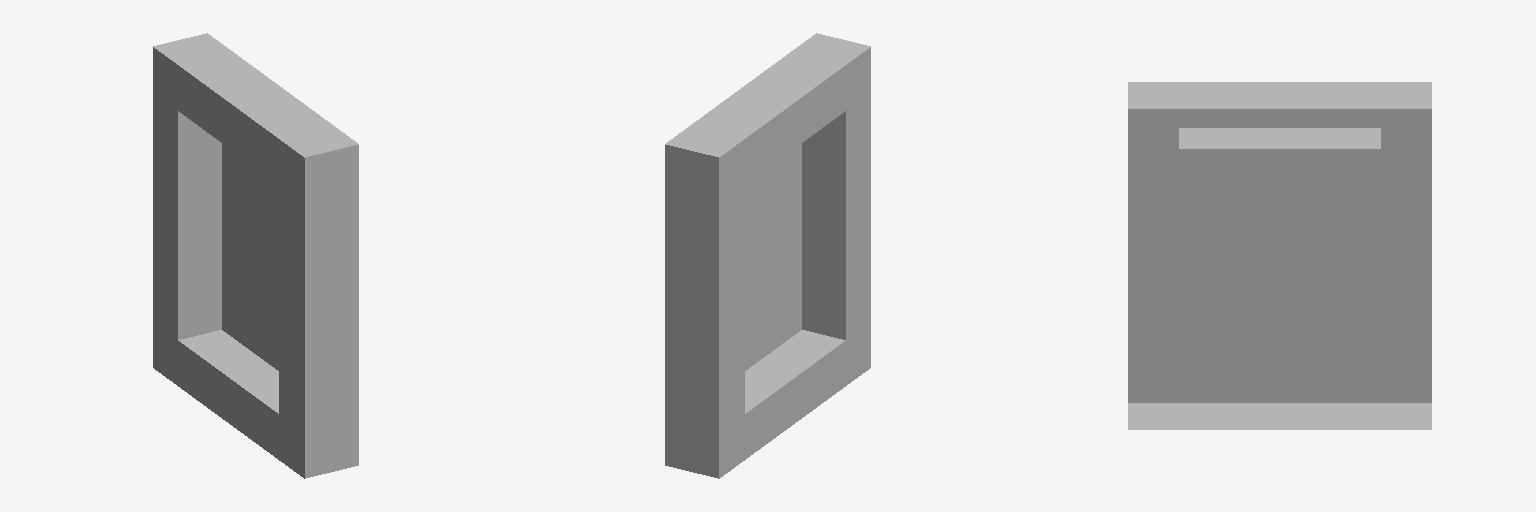
File: station_toolbox.obj
The picture shows the model from 3 angles: view 1: azimuth 30°, elevation 25°; view 2: azimuth 150°, elevation 25°; view 3: azimuth 270°, elevation 25°; orthographic projection.
Visible parts, largest first — view 1: basestation.002; view 2: basestation.002; view 3: basestation.002.
Part boxes in pixels (x1,y1,x2,y2): basestation.002: (153, 33, 358, 478); basestation.002: (665, 33, 870, 478); basestation.002: (1128, 82, 1431, 429).
Bounding box in the file's own units: 0.57 × 3.19 × 2.74.